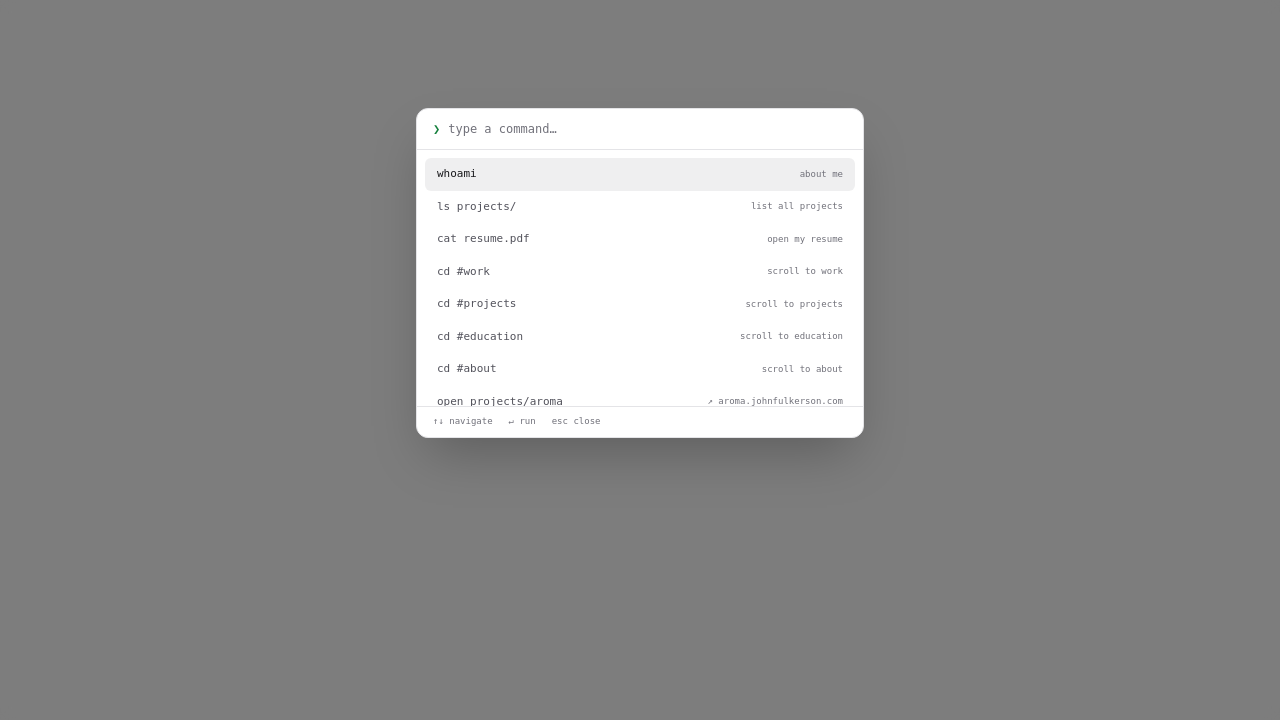
Test: CommandPalette › shows the command list and filters as you type
The width and height of the screenshot is (1280, 720).
Expected: the text "whoami" is shown, [437,166,477,182]
Type "resume" into the field named "Command input".
click(648, 129); type("resume")  # box [448,121,847,137]
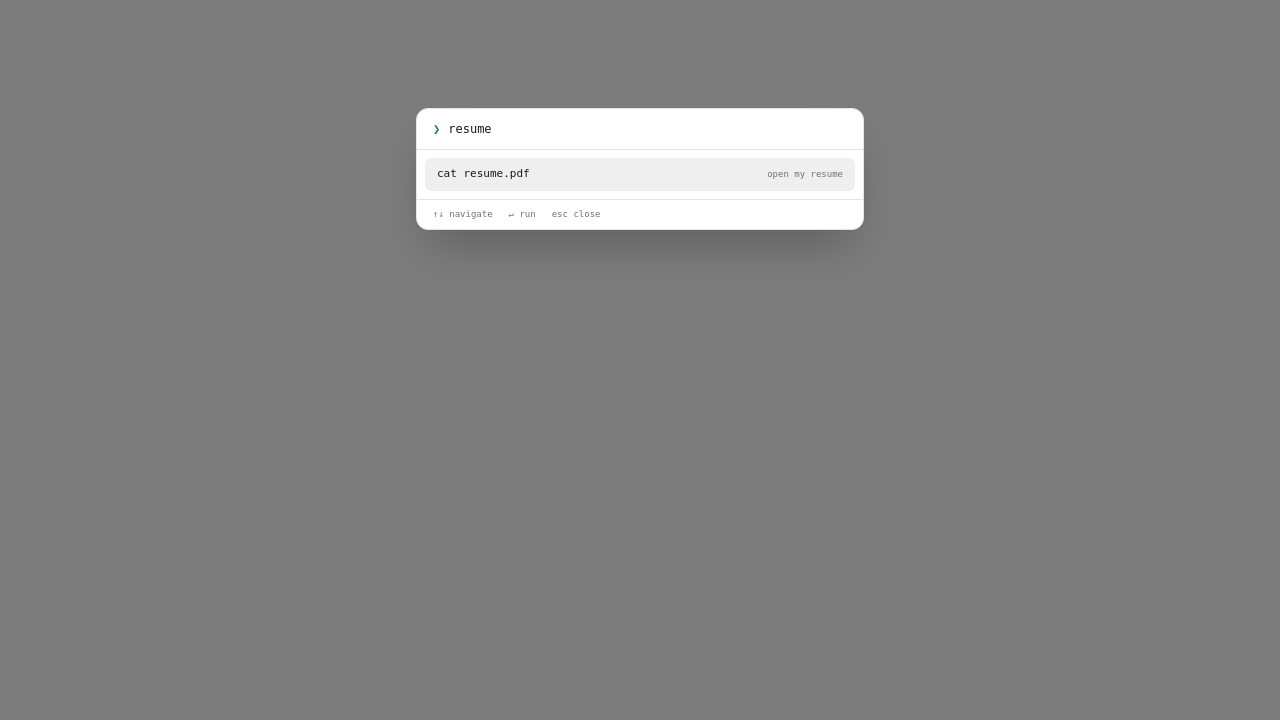
Expected: the text "cat resume.pdf" is shown, [437,166,530,182]
Expected: the button "whoami" is gone
